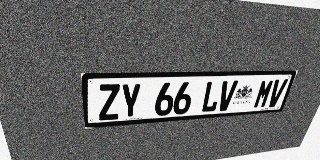6: (154, 82, 176, 116), (172, 82, 194, 115)
L: (200, 81, 222, 113)
M: (252, 79, 275, 108)
V: (216, 80, 238, 111), (266, 79, 288, 107)
Y: (120, 83, 141, 119)
Z: (98, 84, 120, 121)
